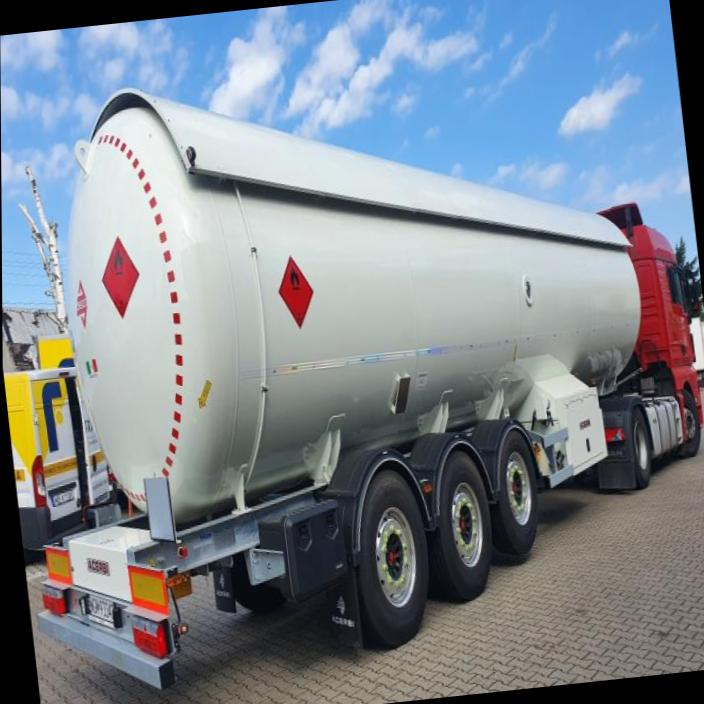bench: (103, 237, 138, 316), (279, 256, 312, 326)
